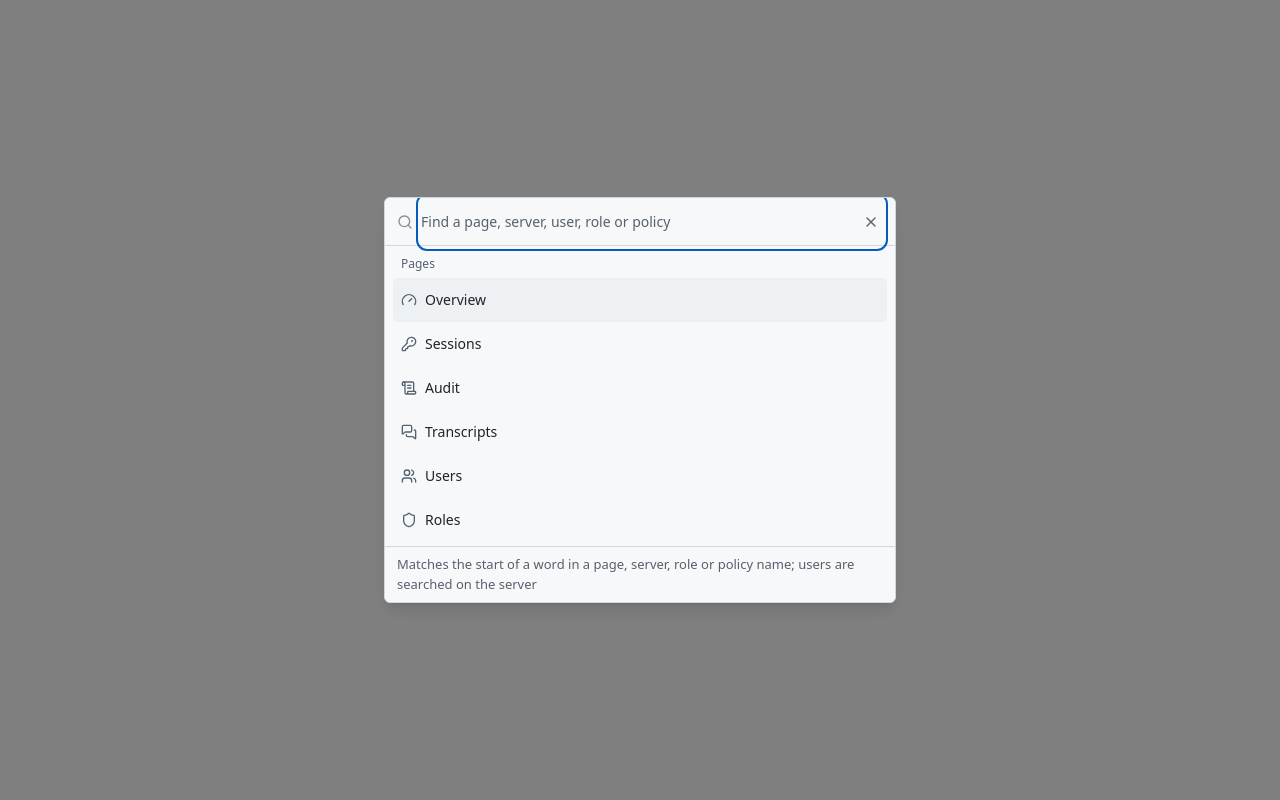
Test case: the palette › hands a server to the caller on Enter
This screenshot has width=1280, height=800.
In the dropdown: (652, 222) [421,198,883,246], type "demo"
Then press Enter
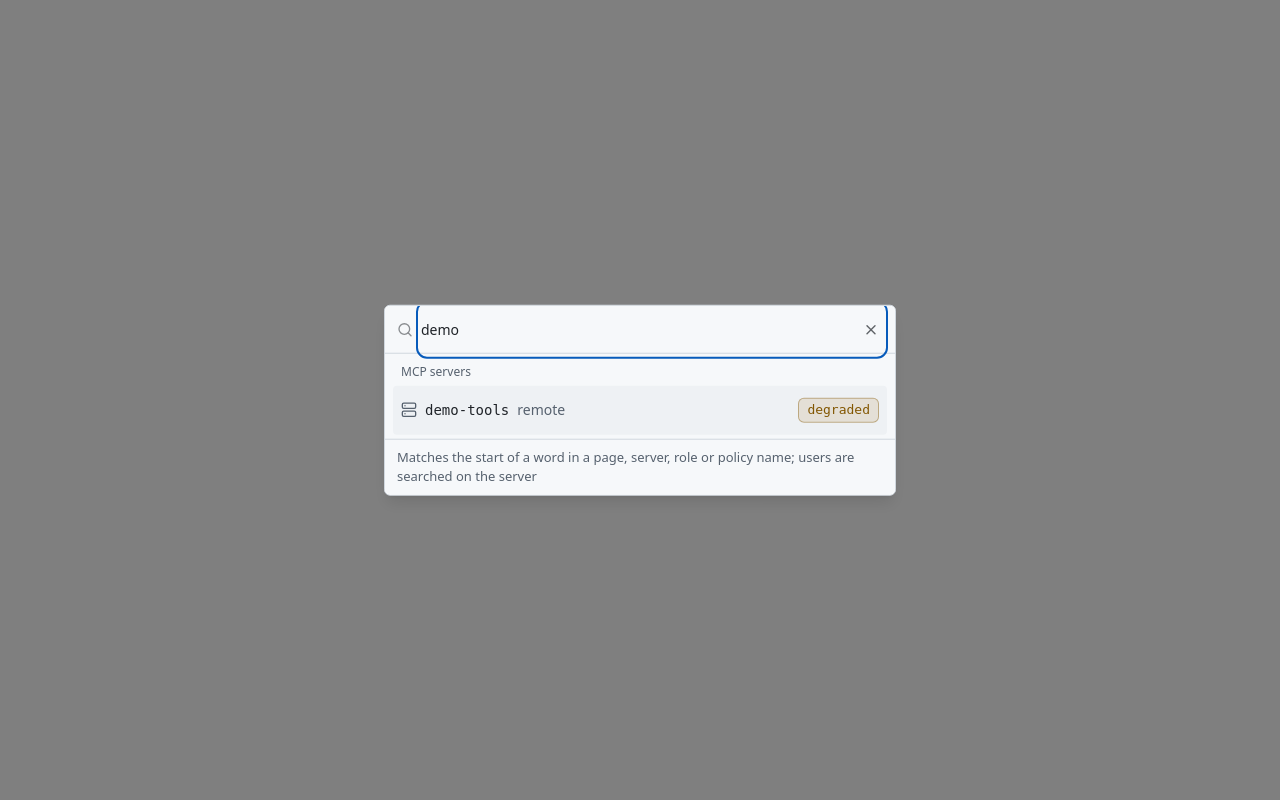
Check: the text "demo-tools" is shown, box [425,400,509,420]
